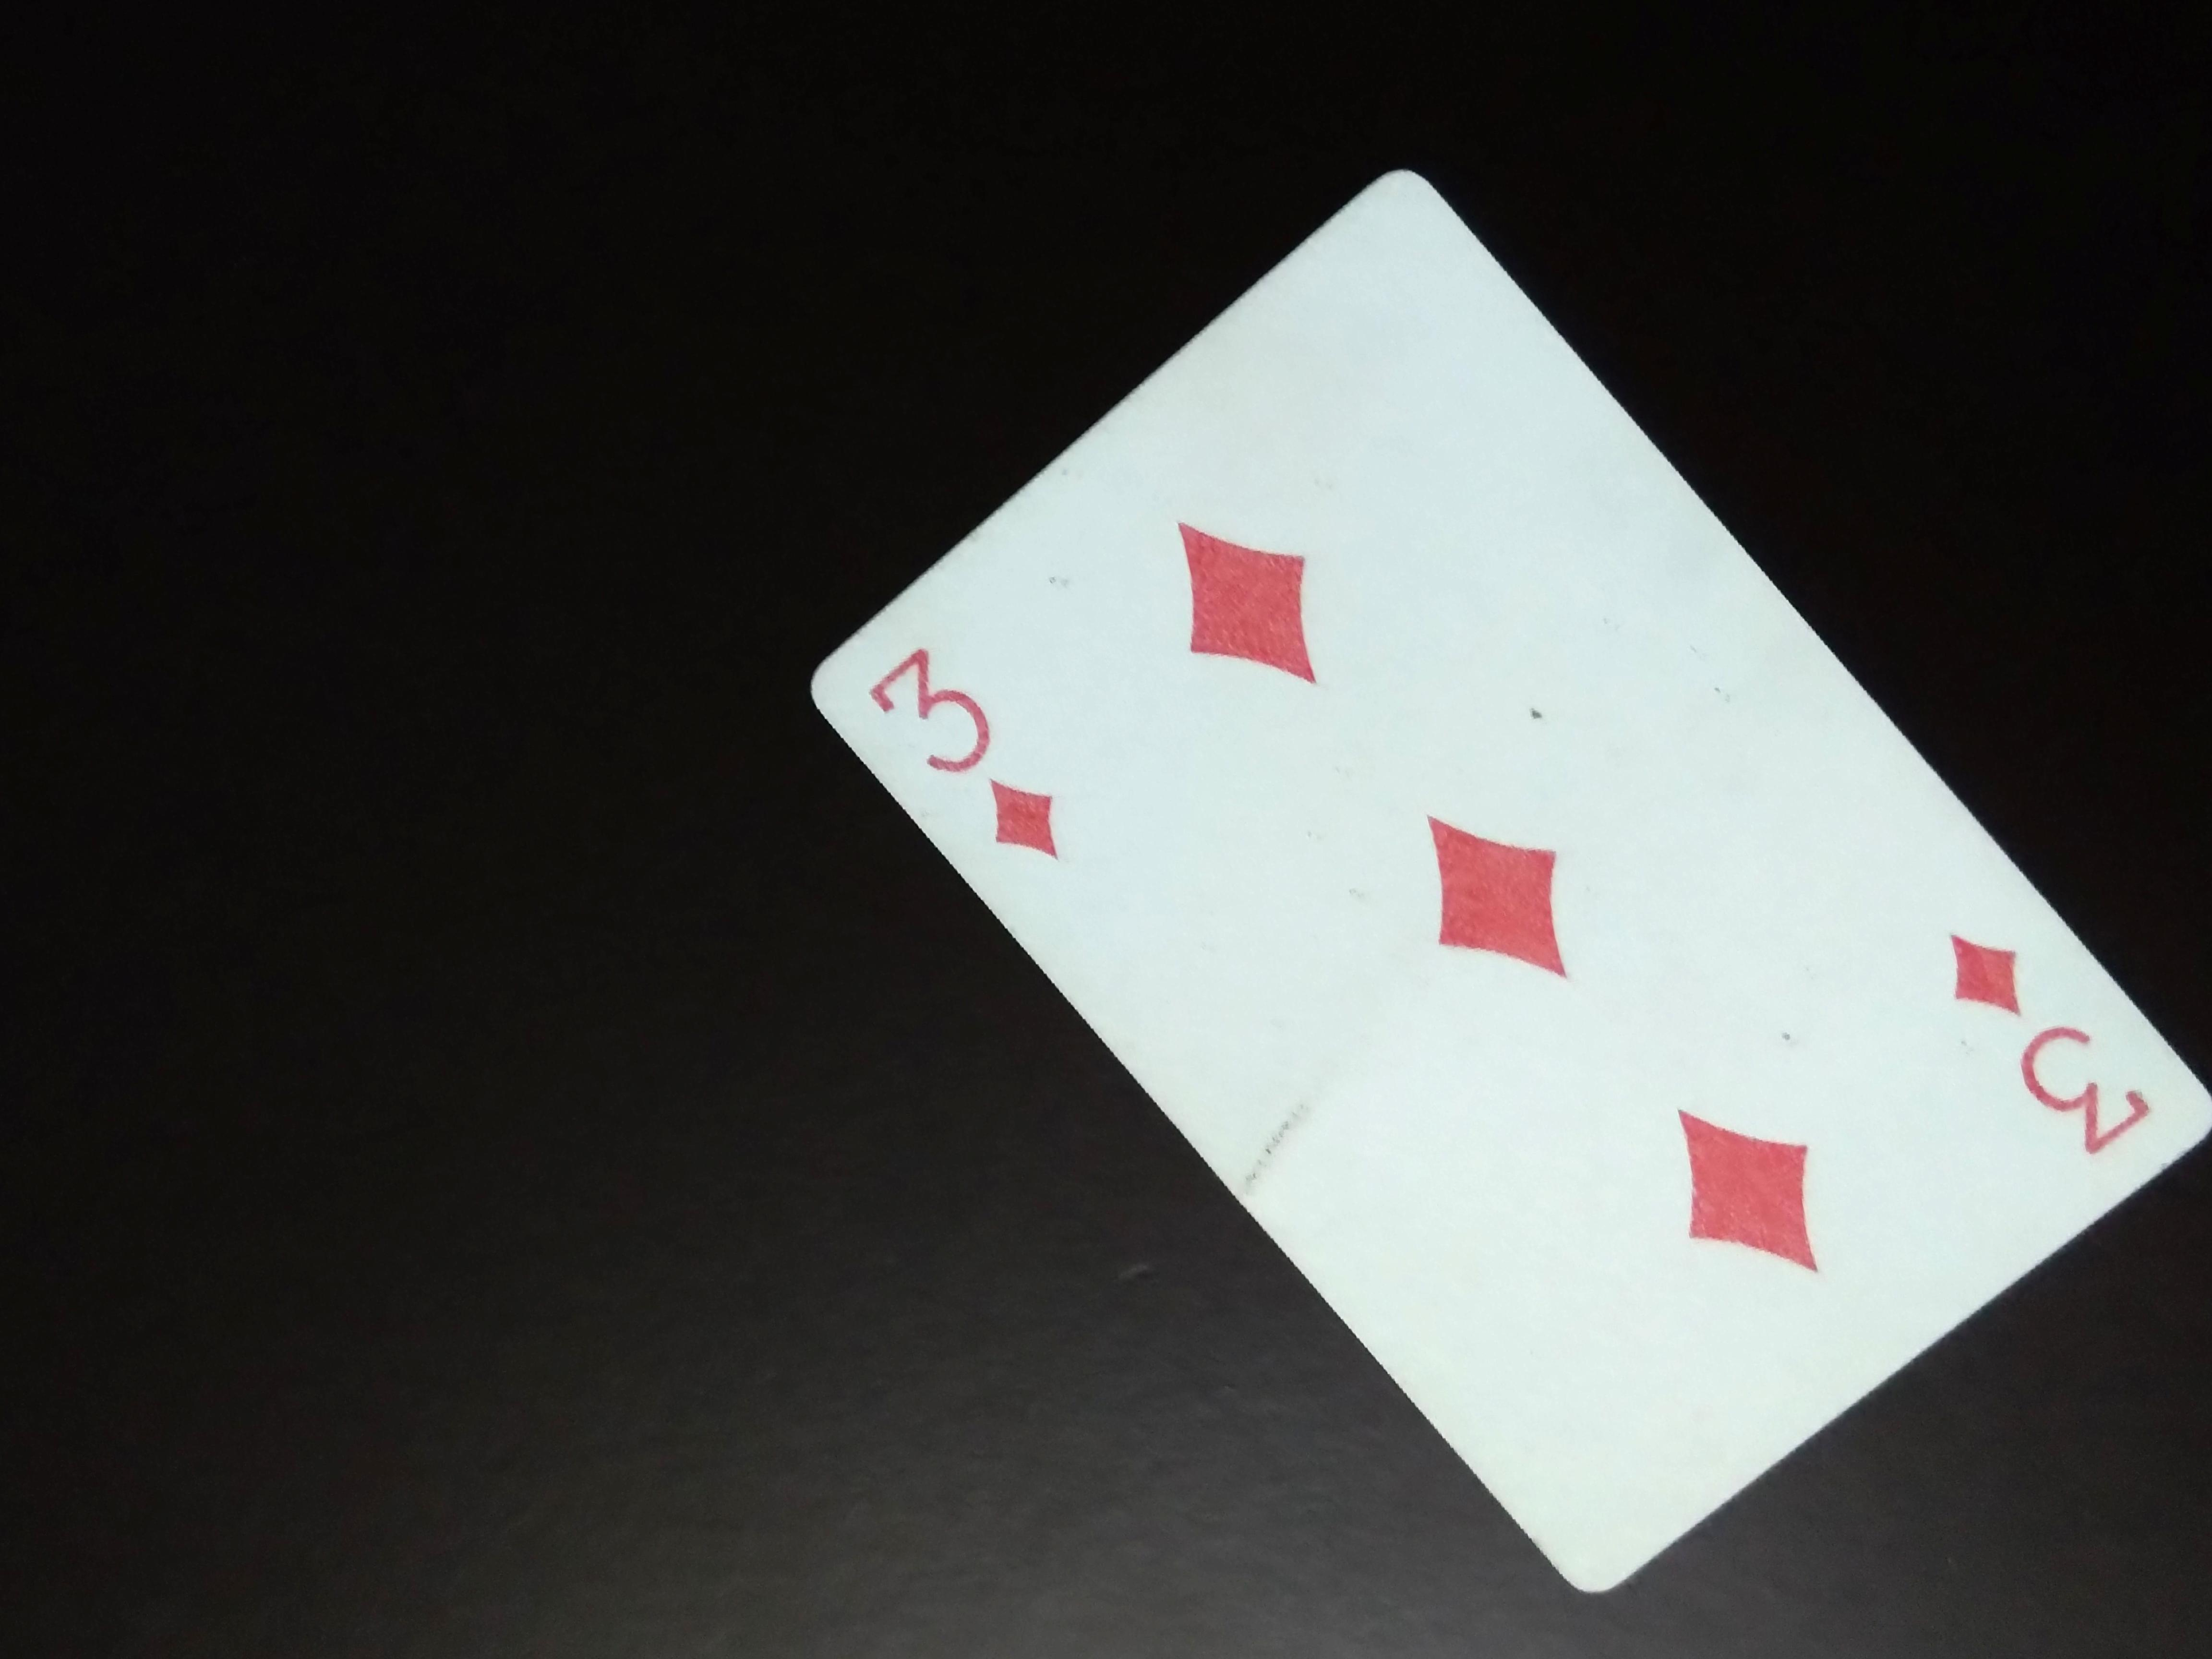3D: (855, 640, 1069, 892)
